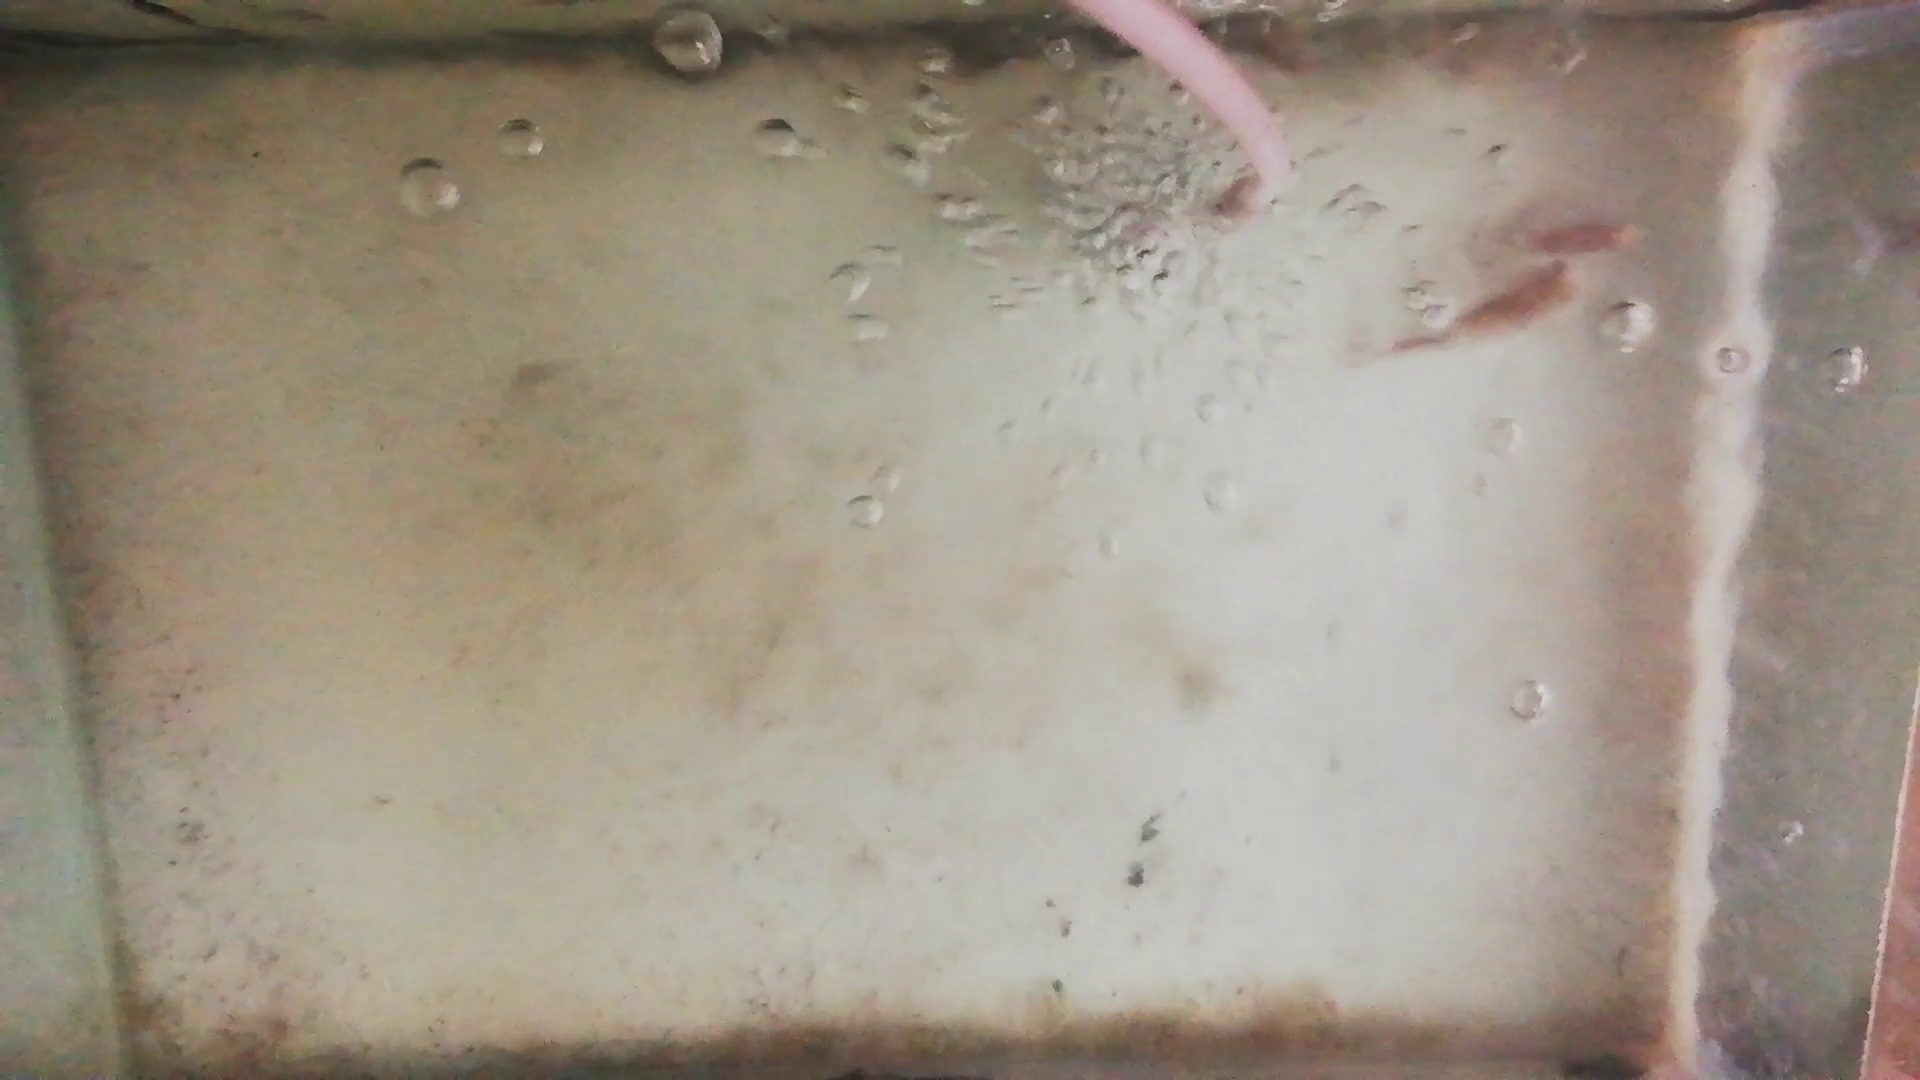fish: (1390, 260, 1585, 348), (1490, 222, 1642, 257)
